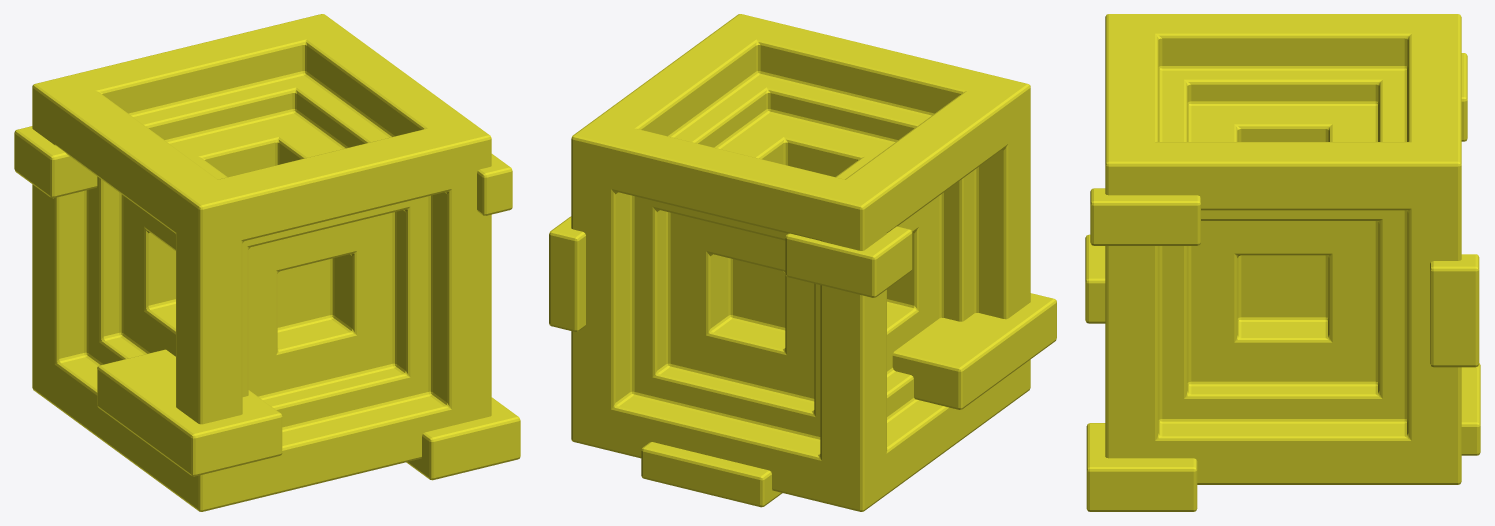
The model's file is CUBES_LVL4.fbx.
The picture shows the model from 3 angles, left to right: view 1: azimuth 30°, elevation 25°; view 2: azimuth 150°, elevation 25°; view 3: azimuth 270°, elevation 25°; orthographic projection. The views are drawn at different scales.
Visible parts, largest first — view 1: Cube.044; view 2: Cube.044; view 3: Cube.044.
Part boxes in pixels (bbox=[...]): Cube.044: bbox=[14, 14, 520, 511]; Cube.044: bbox=[549, 14, 1056, 511]; Cube.044: bbox=[1085, 14, 1480, 511].
Bounding box in the file's own units: 113 × 105 × 111.
